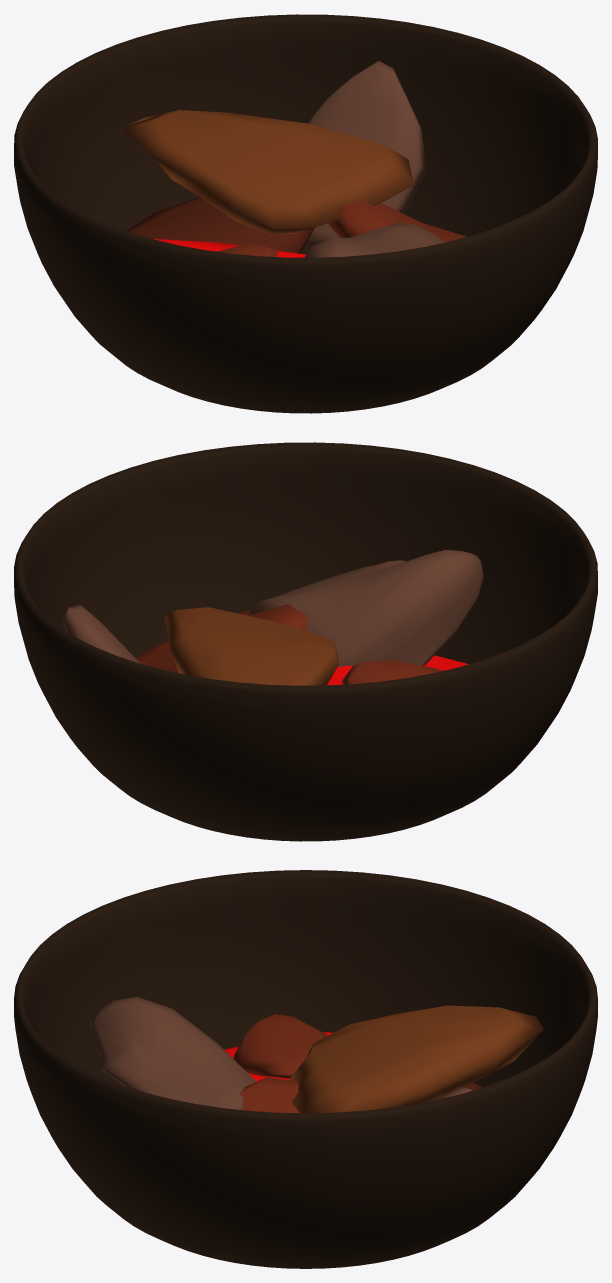
Rendered from RedRocks.fbx.
3 views of the same model, one above another, from view 1: azimuth 30°, elevation 25°; view 2: azimuth 150°, elevation 25°; view 3: azimuth 270°, elevation 25° (orthographic).
Parts seen in each view (by area): view 1: Bowl, Variant1, Variant2.001, Variant2.003, Cube, Variant2.002, Variant1.001; view 2: Bowl, Cube, Variant1, Variant2.001, Variant2.002, Variant2, Variant1.001; view 3: Bowl, Variant1, Cube, Variant2, Variant2.002.
Part boxes in pixels (box(x1,y1,x2,y2)): Bowl: box(14, 14, 597, 413); Variant1: box(121, 110, 413, 235); Variant2.001: box(307, 61, 426, 244); Variant2.003: box(126, 196, 314, 253); Cube: box(304, 222, 444, 257); Variant2.002: box(328, 200, 466, 242); Variant1.001: box(154, 239, 305, 257); Bowl: box(14, 442, 597, 841); Cube: box(248, 549, 483, 666); Variant1: box(164, 607, 338, 685); Variant2.001: box(63, 605, 140, 663); Variant2.002: box(136, 604, 307, 672); Variant2: box(341, 659, 442, 684); Variant1.001: box(327, 655, 468, 685); Bowl: box(14, 870, 597, 1268); Variant1: box(289, 1005, 543, 1113); Cube: box(90, 997, 256, 1109); Variant2: box(233, 1014, 327, 1078); Variant2.002: box(239, 1077, 299, 1113).
Bounding box in the file's own units: 181 × 71.75 × 181.
